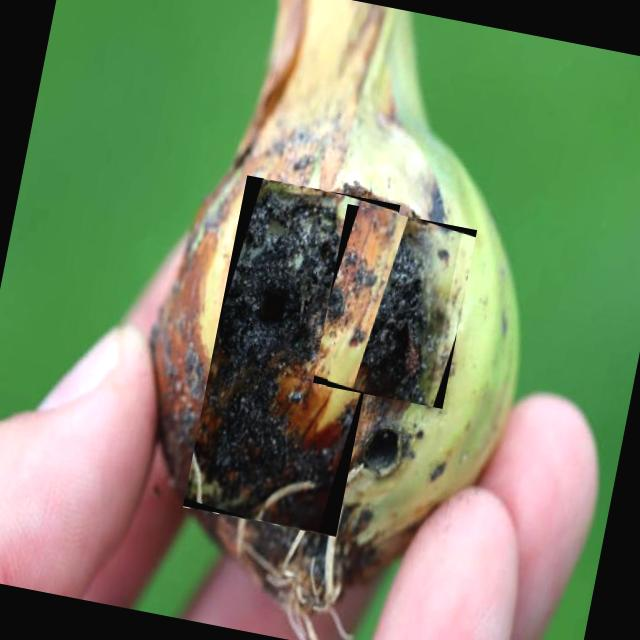mould: (193, 195, 384, 527), (362, 208, 429, 406)
